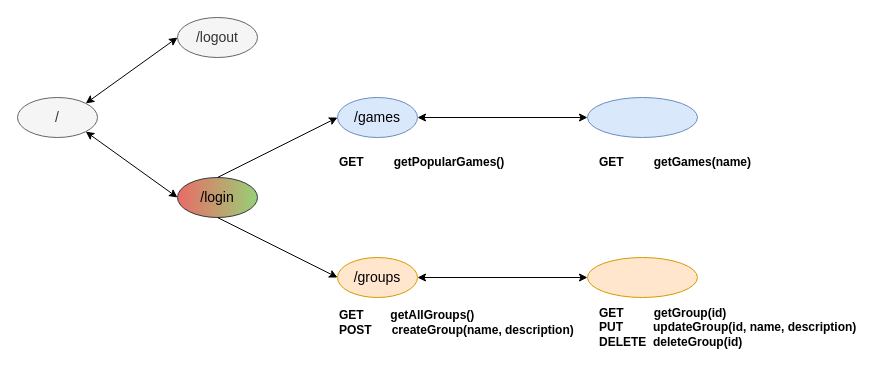
Image size: 895x366. Some labels were removed from this diagram. The centre of each missing label's shape, as x and y in pixels:
"/games/name" belongs at (642,117).
"/group/id" belongs at (642,277).
